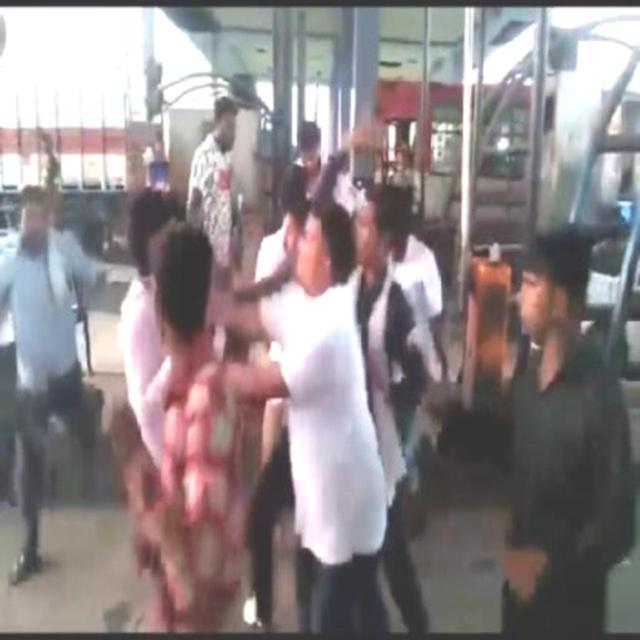fight: (119, 192, 384, 560)
non-fight: (480, 194, 640, 640)
